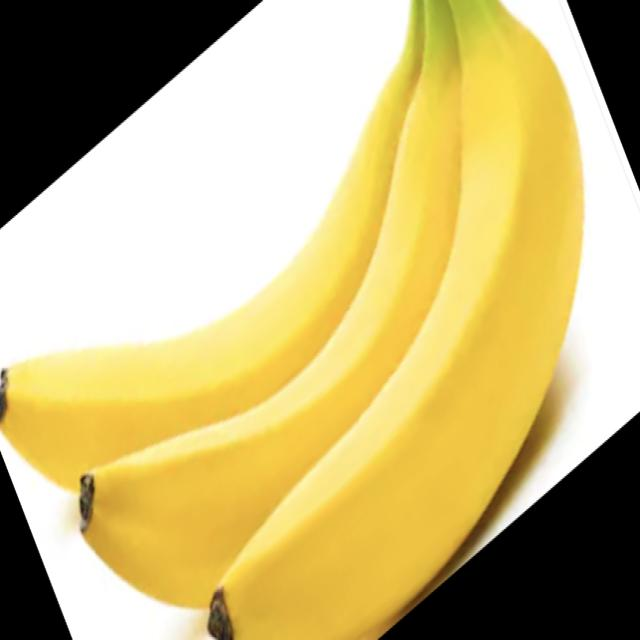banana: (111, 38, 608, 525)
